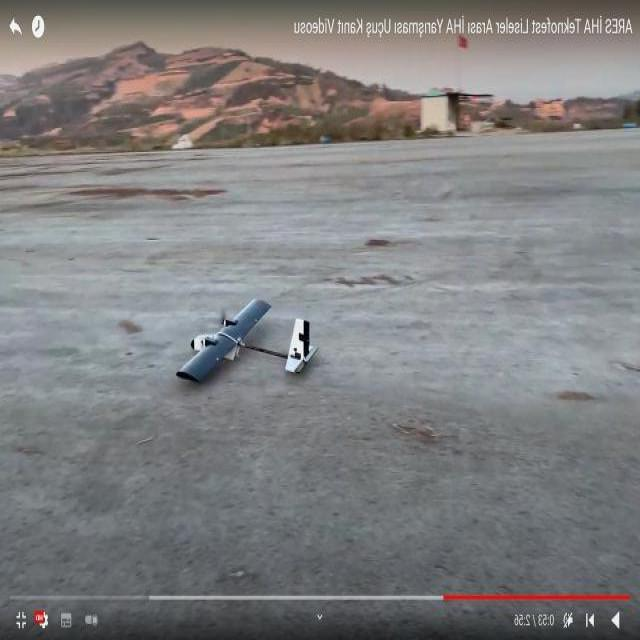UAV: (172, 276, 311, 402)
